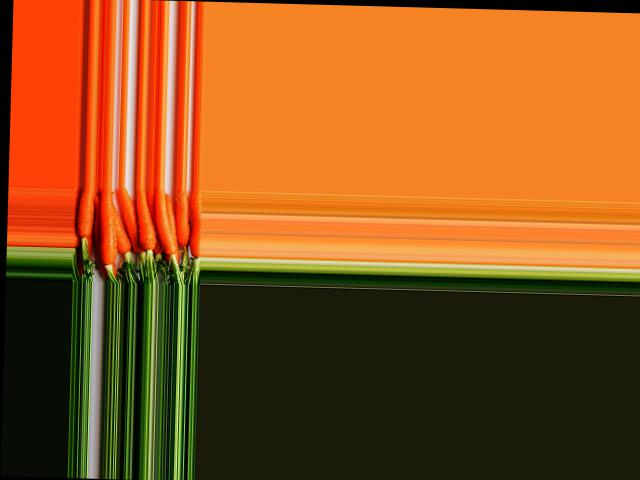carrot: (73, 184, 94, 247)
